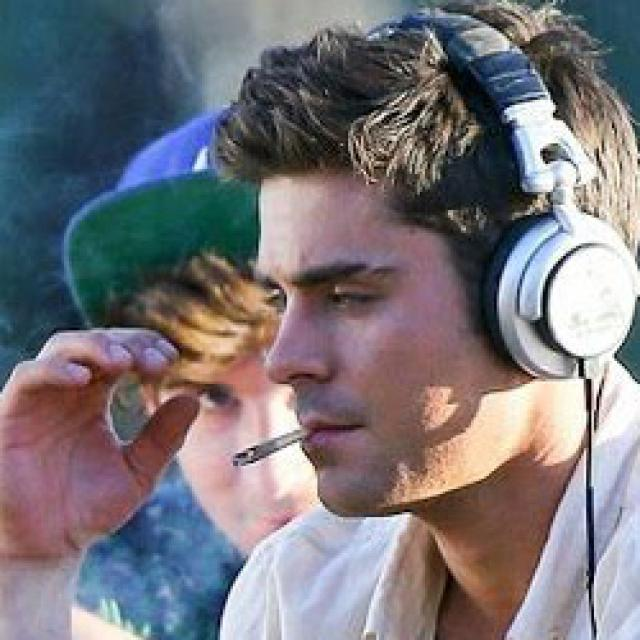Smooking: (215, 430, 331, 471)
